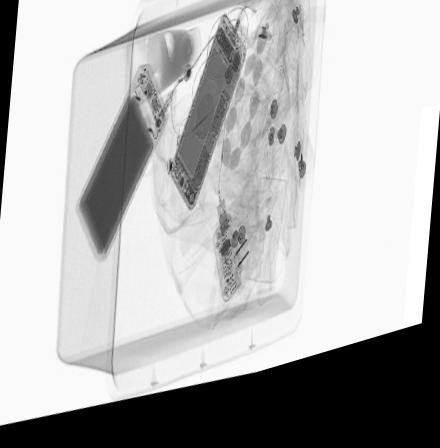Powerbank: (72, 63, 168, 276)
